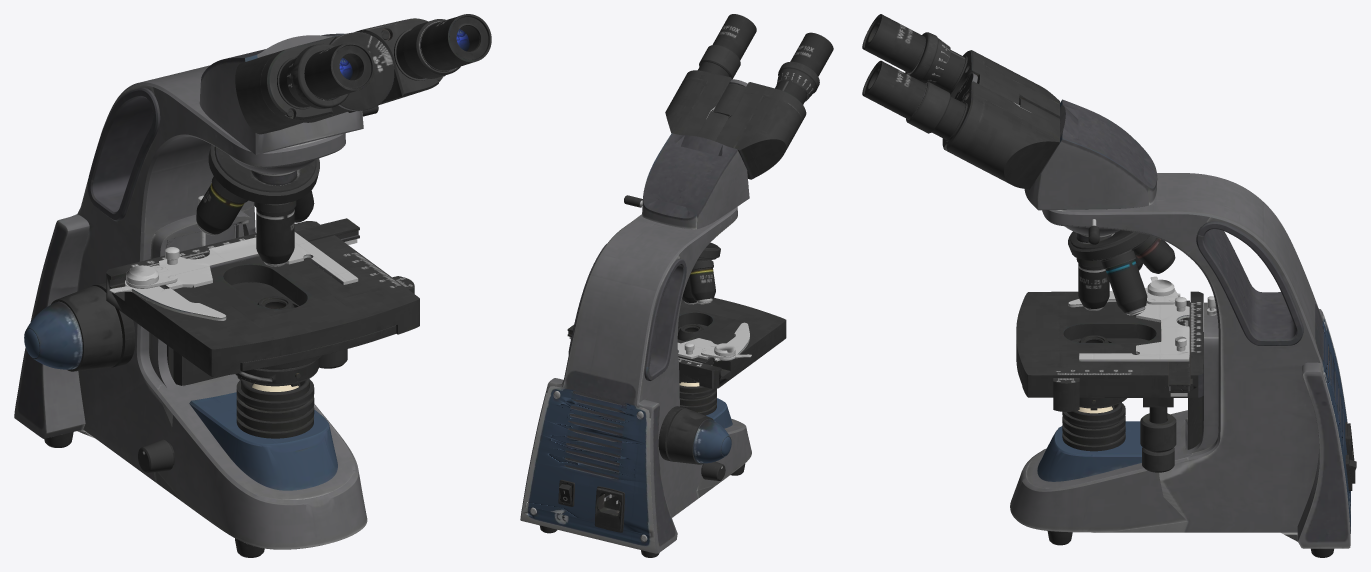
File: scope-mobile.glb
3 views of the same model, side by side, from view 1: azimuth 30°, elevation 25°; view 2: azimuth 150°, elevation 25°; view 3: azimuth 270°, elevation 25° (orthographic). The views are drawn at different scales.
Parts seen in each view (by area): view 1: model_2_microscope_body_0.001; view 2: model_2_microscope_body_0.001; view 3: model_2_microscope_body_0.001.
Part boxes in pixels (box(x1,y1,x2,y2)): model_2_microscope_body_0.001: box(14, 14, 491, 557); model_2_microscope_body_0.001: box(520, 14, 833, 557); model_2_microscope_body_0.001: box(862, 14, 1356, 557).
Bounding box in the file's own units: 4.36 × 8.78 × 8.12.
Materials: 3 (3 with a texture image).
